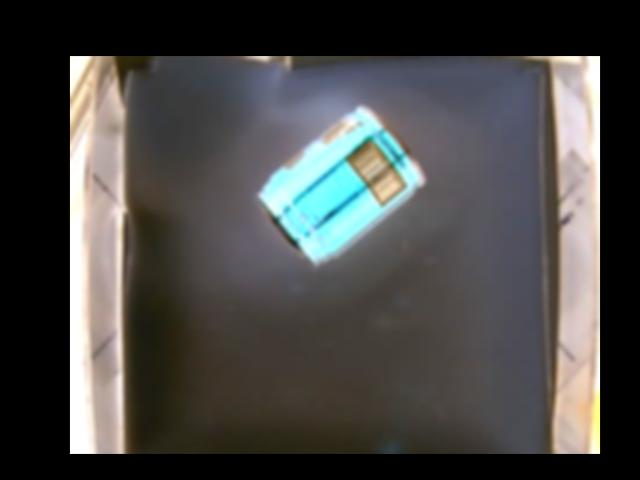Bottle: (257, 103, 422, 265)
